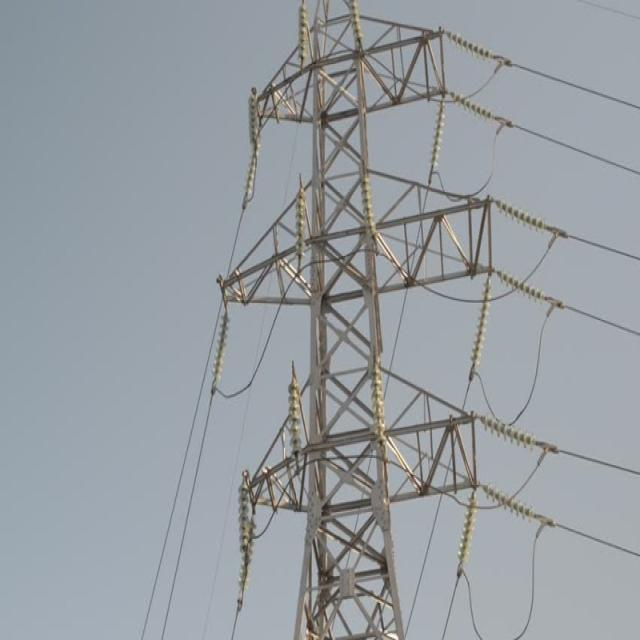non-critical vegetation: (210, 11, 500, 634)
